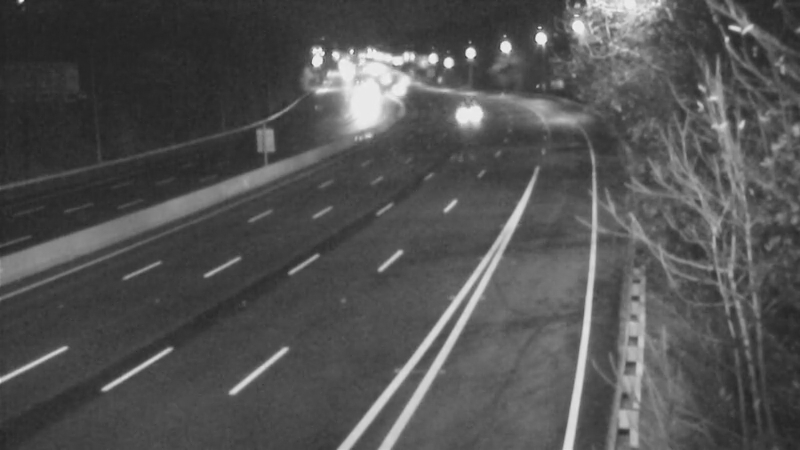vehicle: (376, 69, 426, 119), (436, 90, 486, 140), (335, 78, 385, 128)
